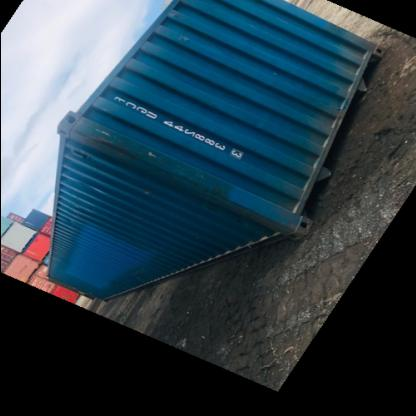Damage: (84, 130, 170, 166), (74, 178, 108, 200), (58, 213, 78, 227), (135, 184, 149, 200)
